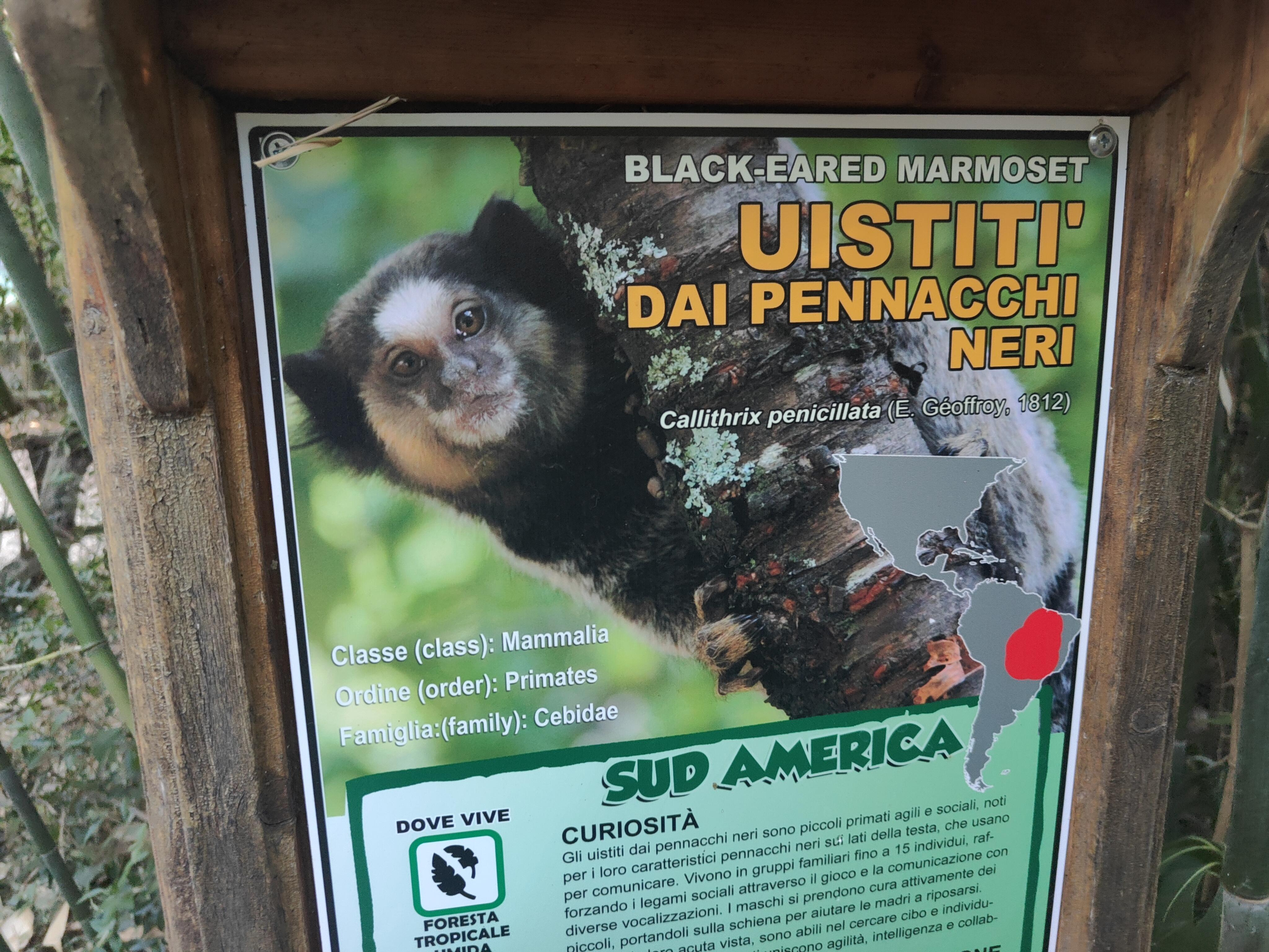boar: (282, 190, 765, 700)
